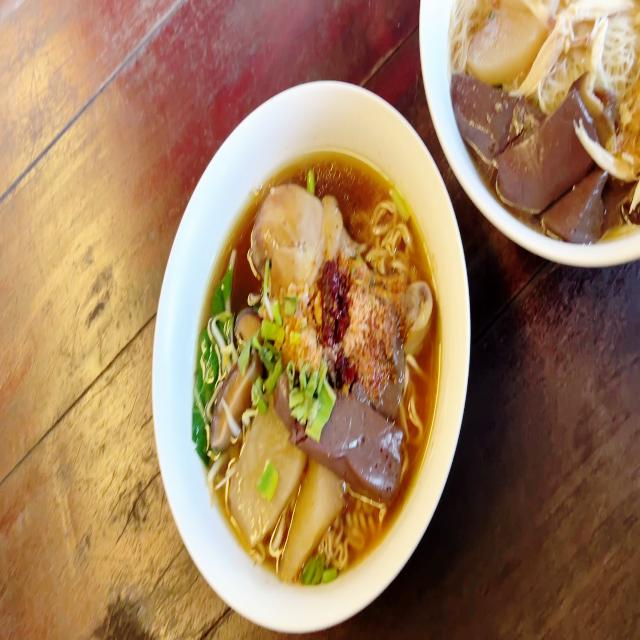boiled_chicken_blood_jelly: (457, 76, 620, 234), (334, 390, 404, 490)
chicken_drumstick: (250, 170, 431, 342)
chicken_shredded: (525, 15, 570, 99), (581, 118, 640, 177), (589, 4, 607, 107), (571, 0, 639, 14)
daikon_radish: (229, 426, 334, 562), (463, 0, 560, 86)
noodle: (174, 126, 434, 588), (435, 0, 640, 253)
